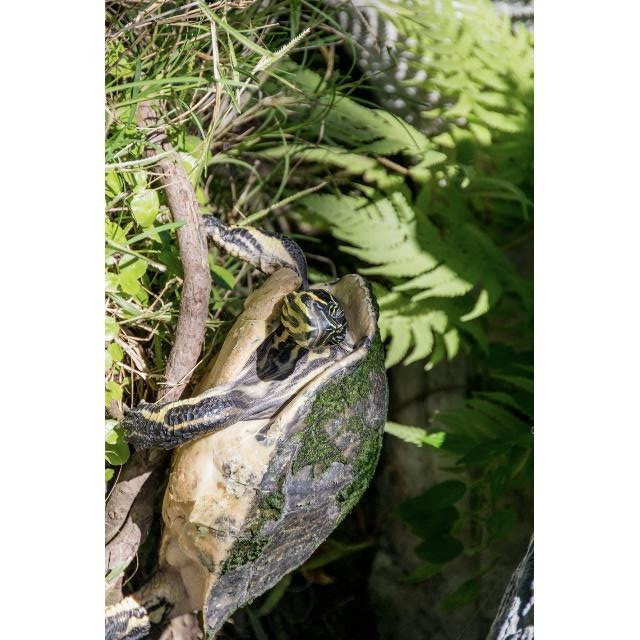turtle: (107, 216, 391, 635)
